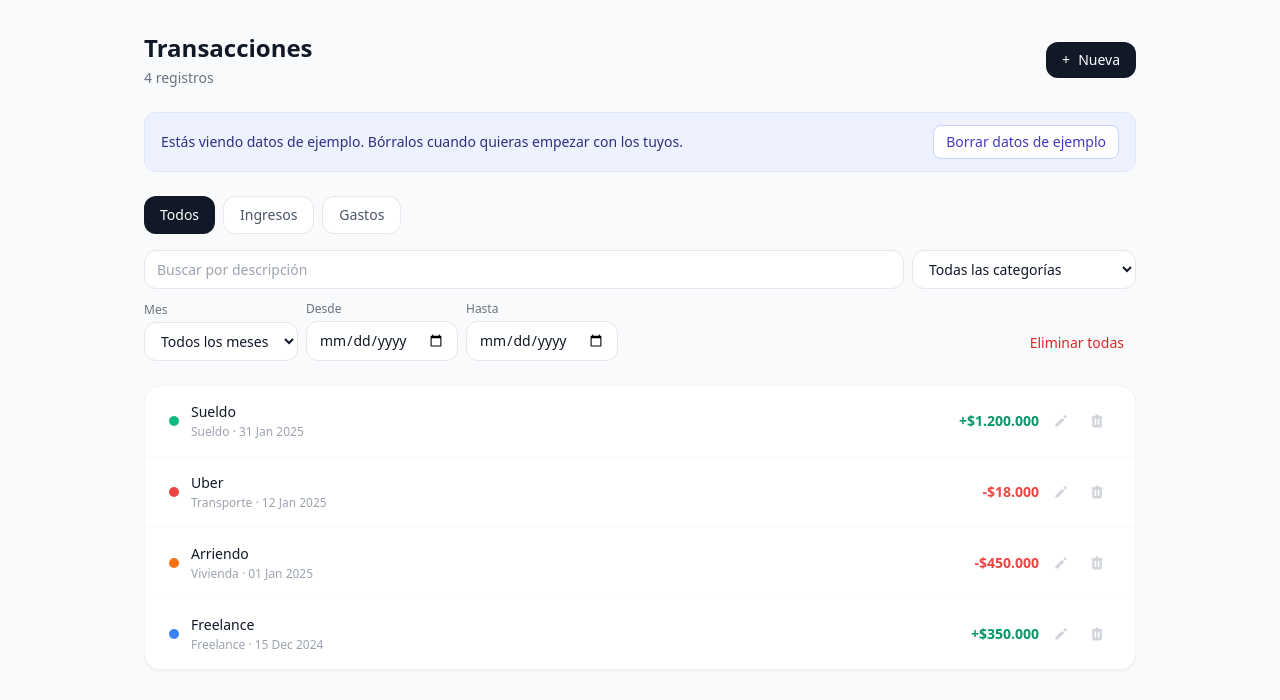
Test: TransactionsComponent › month filter and bulk delete › should offer to delete everything without filters and keep data on cancel
This screenshot has width=1280, height=700.
Step 1. Click the button "Eliminar todas" → (1077, 343), box [1018,325,1136,361]
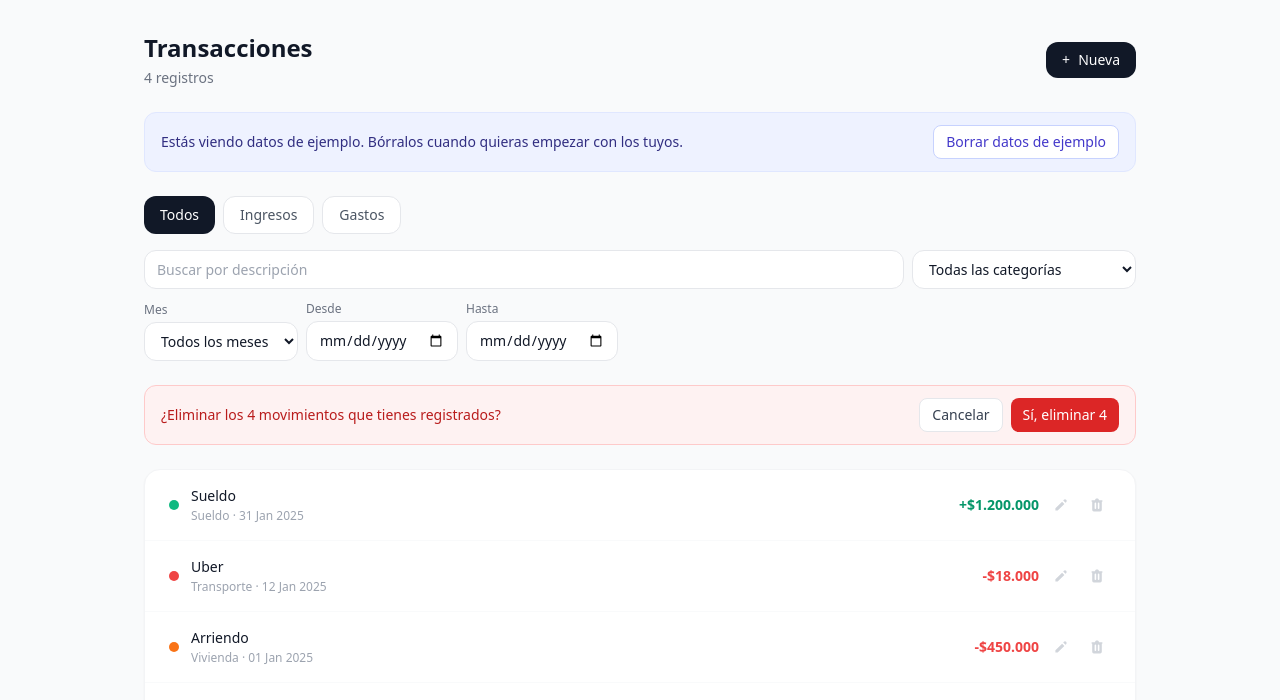
Now the message "¿Eliminar los 4 movimientos que tienes registrados? Cancelar Sí, eliminar 4" is shown, box [144,385,1136,445]
Step 2. Click the button "Cancelar" → (961, 415), box [919,398,1002,432]
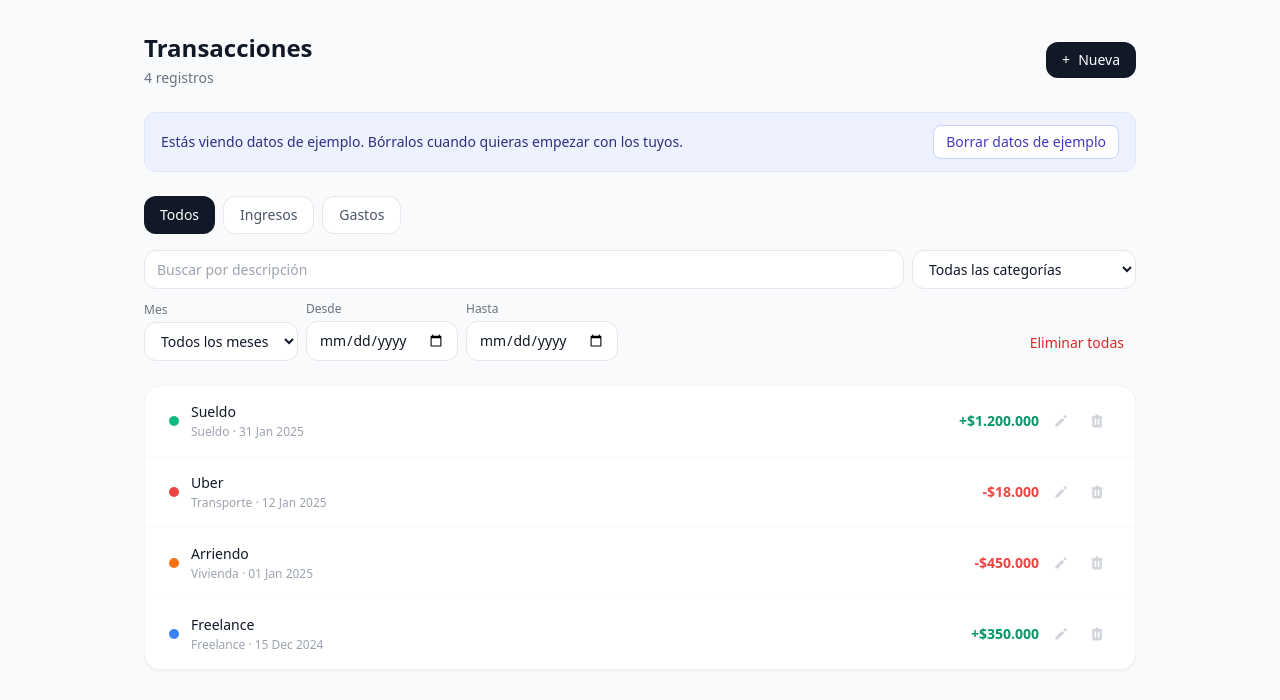
Now the message "¿Eliminar los 4 movimientos que tienes registrados? Cancelar Sí, eliminar 4" is gone
